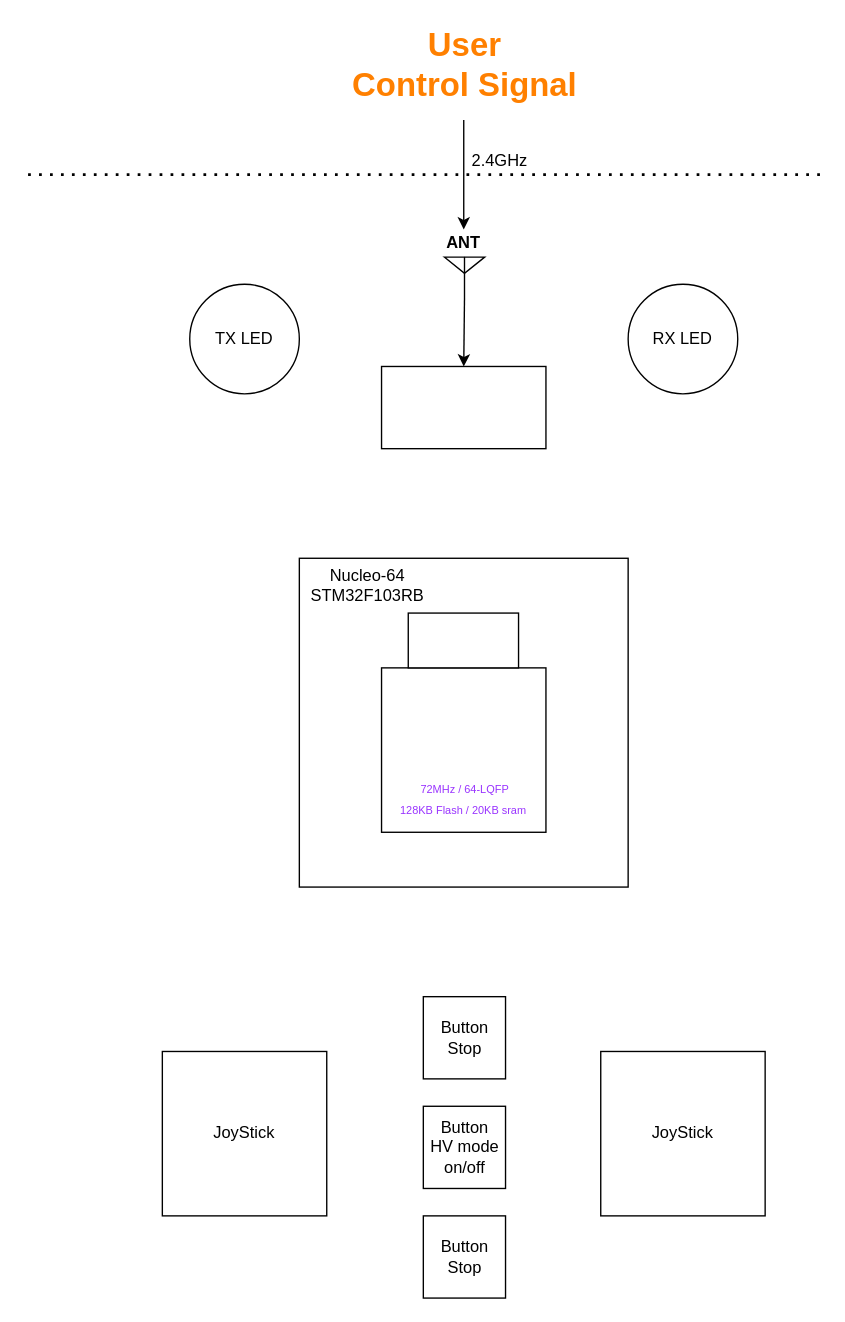
Image size: 845x1322. Some labels were removed from this diagram. The box of each missing label's shape, as (x1, y1, x2, y2) in pixels:
Cortex-M3 STM32F103 RBT6: (380, 667, 546, 832)
Embedded ST-LINK/V2: (407, 612, 519, 668)
nRF24L01+ NRF24L01 + PA + LNA 250kbps ~ 2Mbps: (380, 365, 546, 449)
